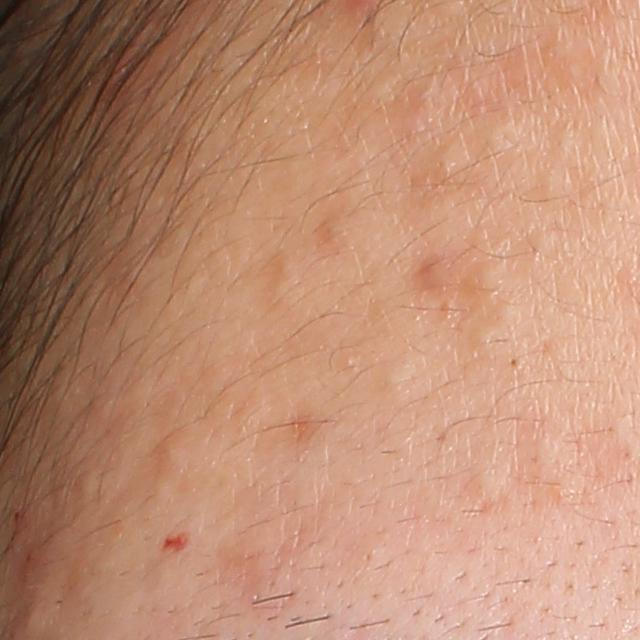comedo: (253, 245, 313, 319), (146, 421, 202, 492), (412, 141, 472, 207), (367, 353, 418, 409), (459, 252, 508, 310), (463, 467, 507, 517), (458, 317, 509, 352), (544, 122, 580, 169), (473, 116, 513, 155), (506, 354, 527, 379)
